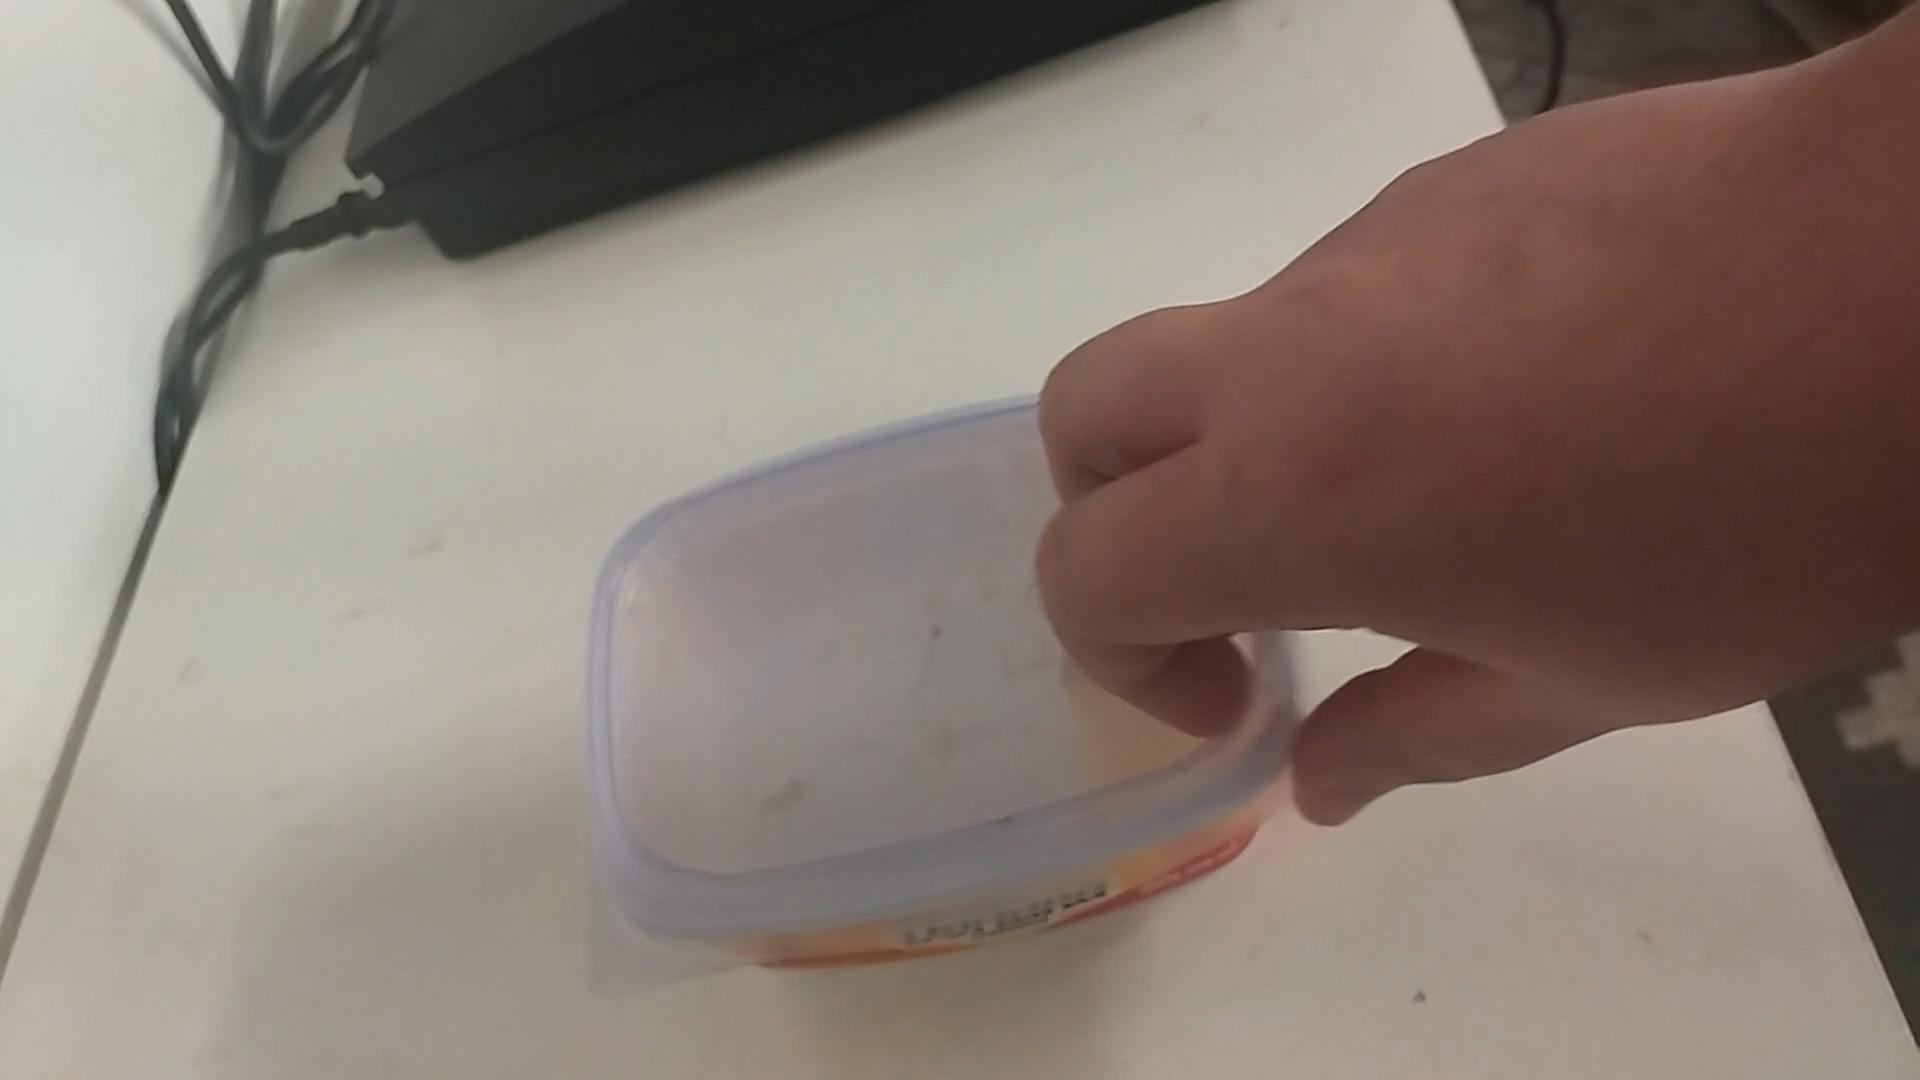butter: (575, 397, 1302, 970)
